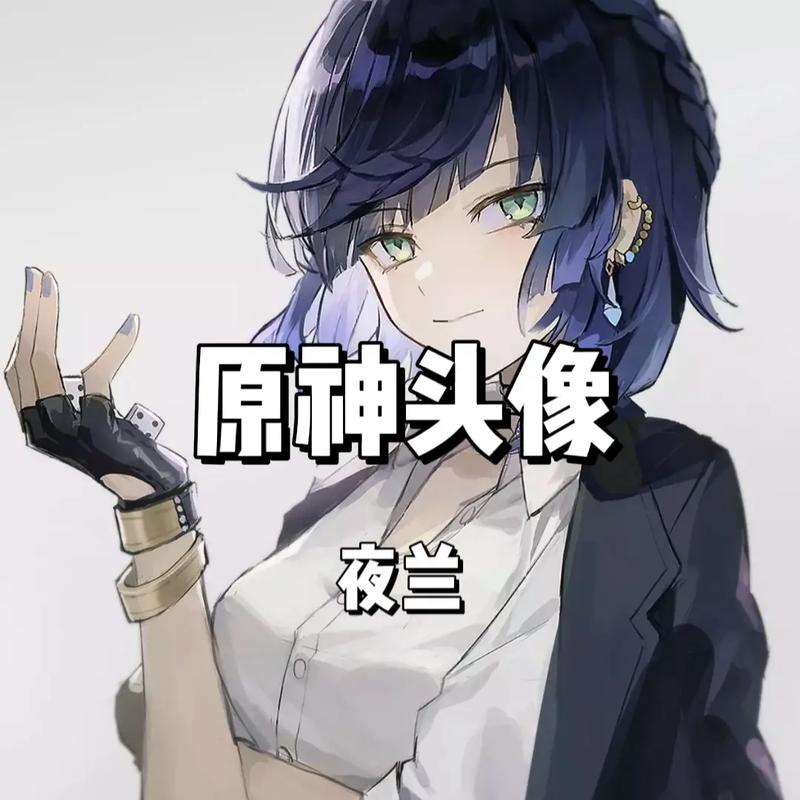夜兰: (1, 1, 788, 800)
